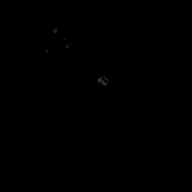v: (42, 25, 71, 54)
